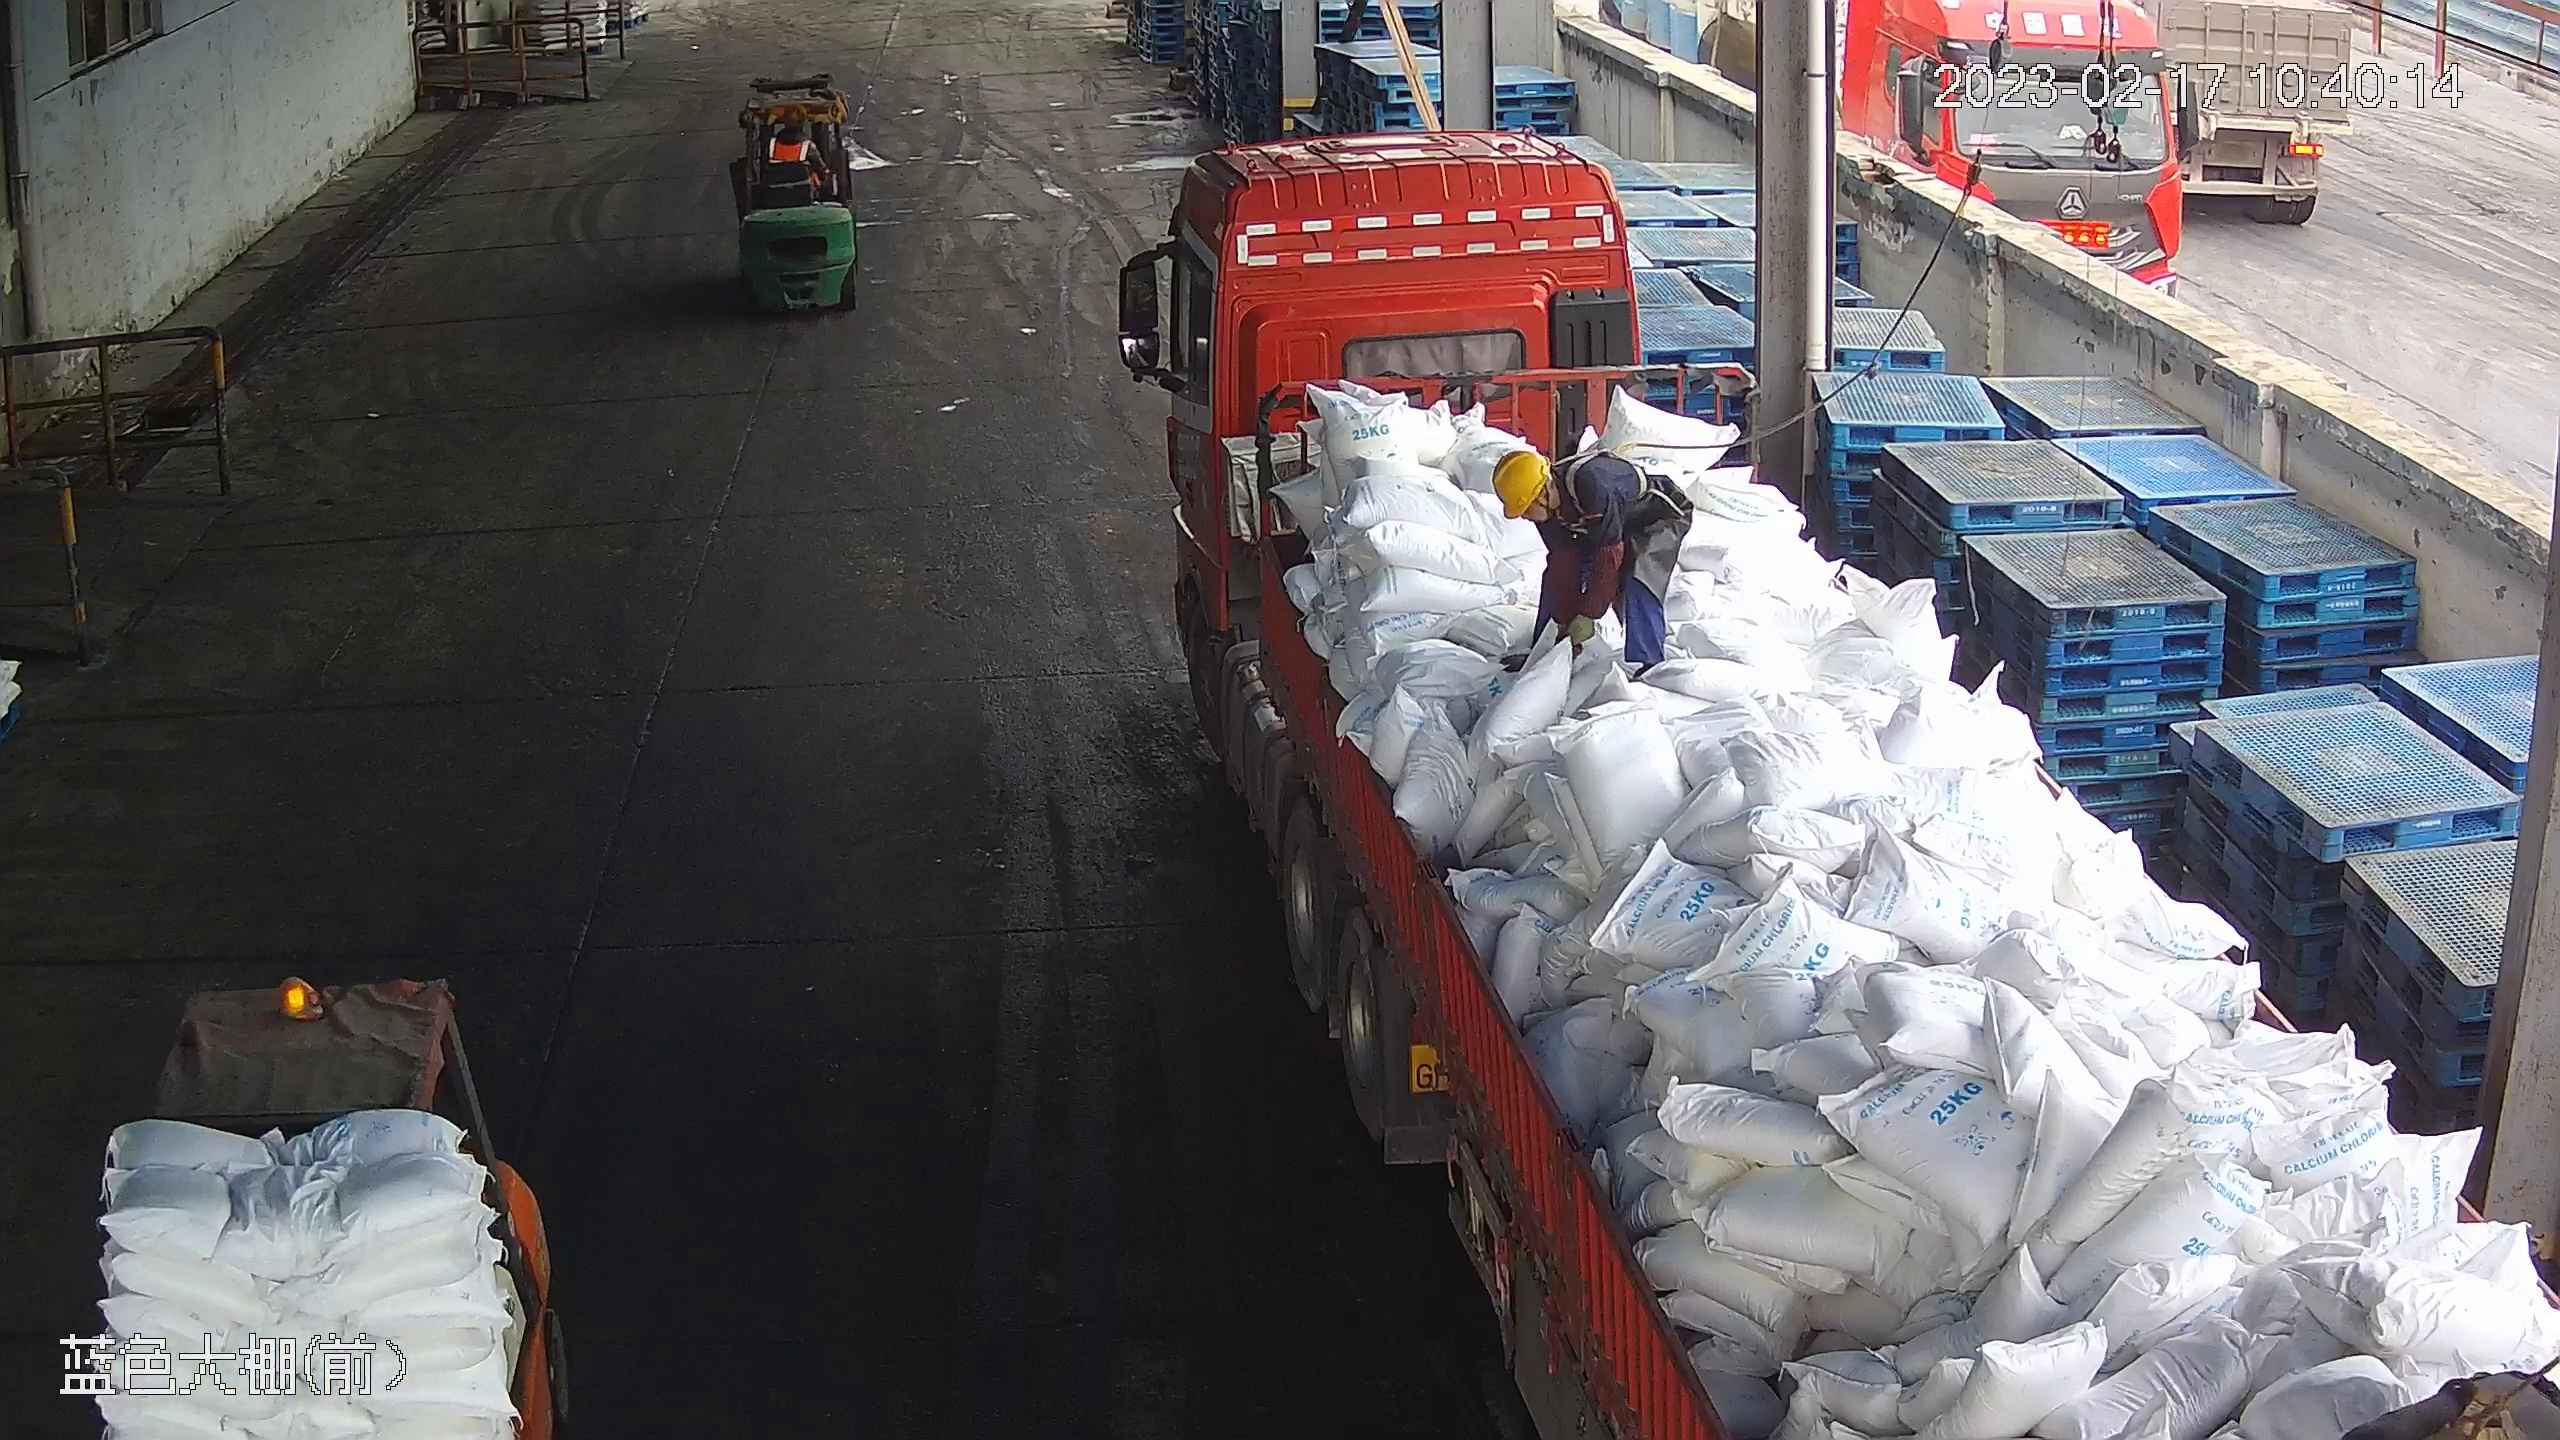belt: (1558, 436, 1638, 512)
head: (1492, 444, 1620, 551), (764, 111, 815, 157)
helmet: (1493, 443, 1548, 520)
people: (1490, 444, 1698, 685)
truck: (1114, 114, 2558, 1439)
